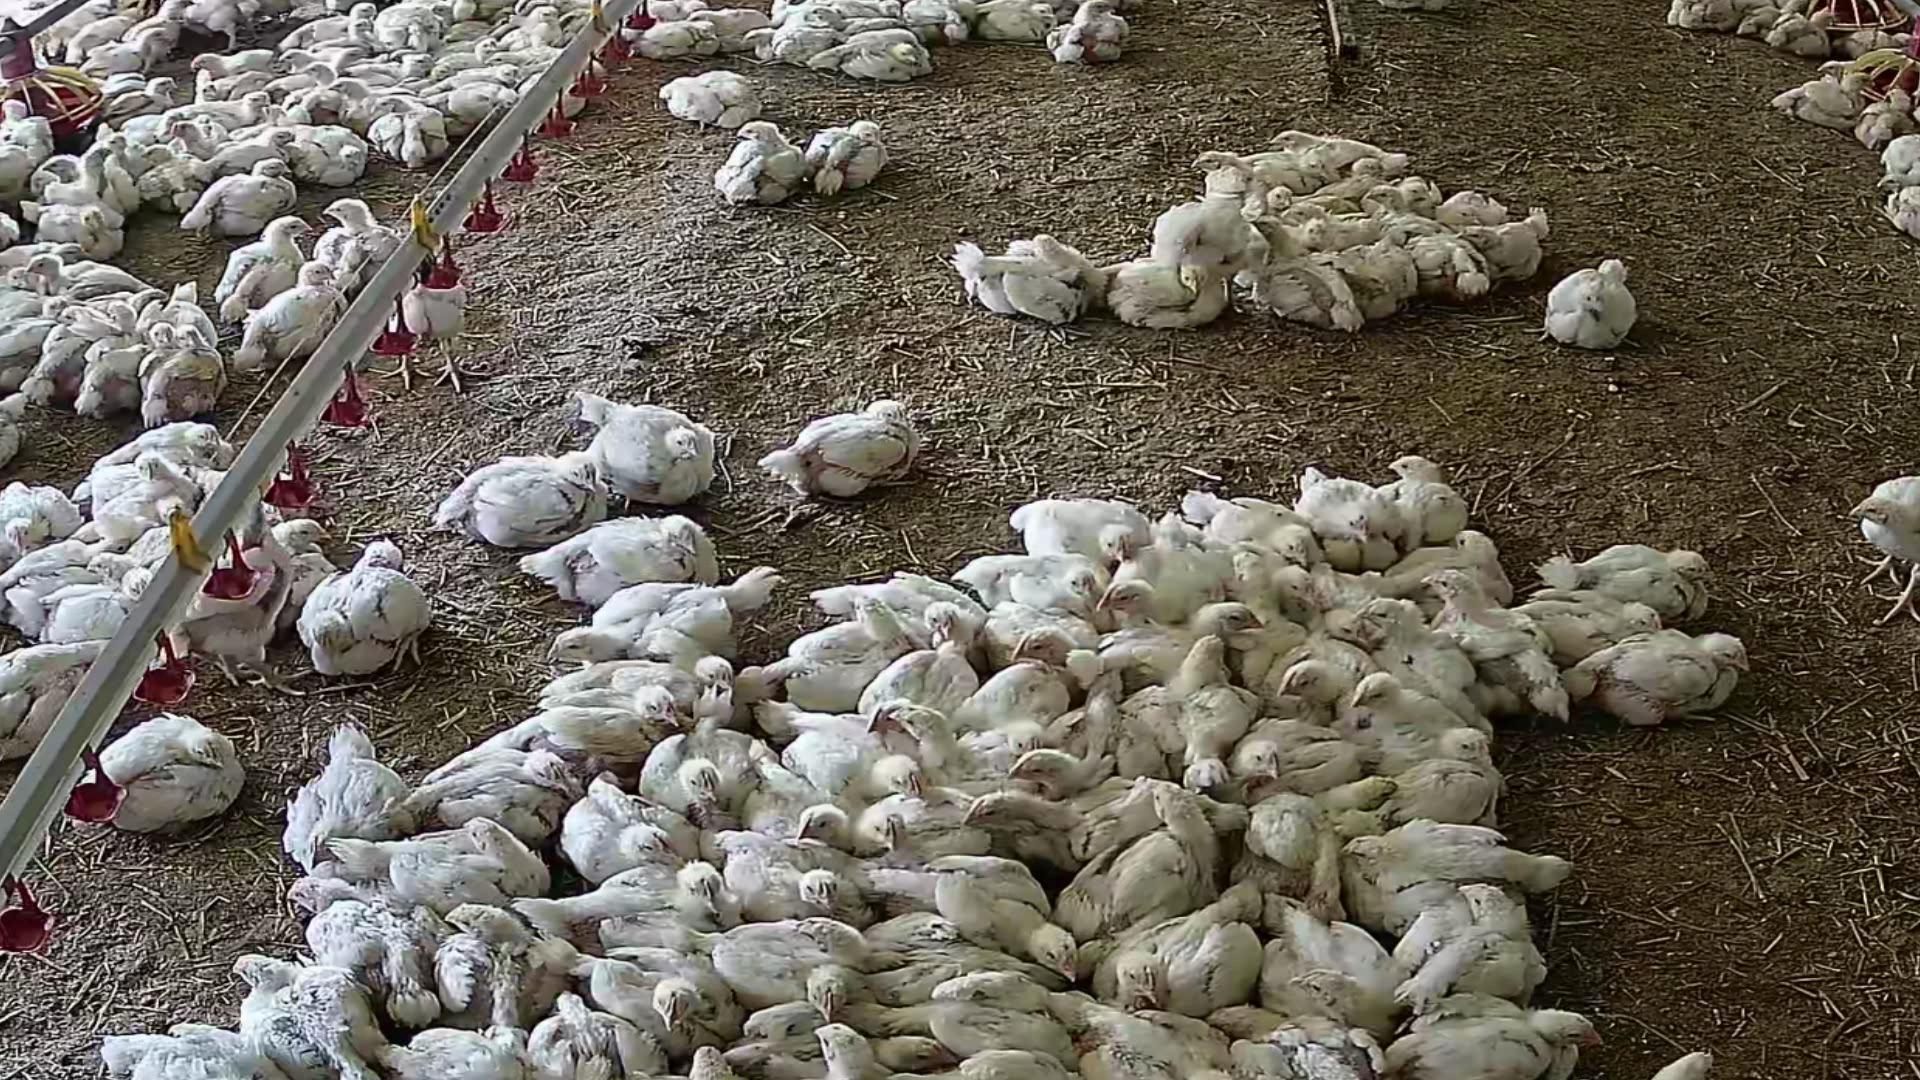poussin: (69, 694, 252, 847), (1063, 880, 1270, 1014), (894, 845, 1092, 976), (1059, 769, 1230, 919), (568, 369, 735, 512), (286, 546, 462, 679), (1571, 607, 1763, 728), (1422, 580, 1572, 731), (1387, 982, 1617, 1080), (198, 538, 322, 712), (1543, 512, 1721, 629), (442, 419, 608, 542), (546, 574, 762, 665), (766, 382, 924, 506), (306, 876, 451, 1010), (949, 222, 1100, 351), (777, 695, 932, 819), (963, 769, 1164, 864), (1341, 819, 1539, 915), (803, 769, 997, 866), (203, 942, 380, 1048), (1807, 462, 1920, 626), (1400, 878, 1549, 1001), (281, 727, 418, 856), (884, 688, 1030, 808), (529, 508, 736, 591), (1261, 905, 1406, 1019), (566, 778, 721, 885), (1246, 208, 1366, 343), (1176, 479, 1337, 579), (1534, 236, 1655, 368), (589, 935, 727, 1050), (1365, 185, 1498, 299), (458, 891, 579, 1014), (645, 709, 764, 835), (1275, 456, 1411, 566), (0, 646, 137, 754), (430, 745, 592, 835), (1085, 996, 1253, 1080), (1225, 705, 1367, 804), (919, 961, 1073, 1051), (514, 985, 659, 1080), (1101, 607, 1257, 694), (1367, 723, 1495, 828), (1204, 1010, 1395, 1080), (1354, 596, 1487, 696), (728, 825, 861, 924), (390, 807, 537, 897), (961, 547, 1118, 629), (783, 601, 911, 702), (729, 913, 865, 1005), (553, 644, 741, 709), (1505, 579, 1660, 658), (844, 636, 973, 731), (1110, 514, 1216, 629), (1100, 252, 1225, 348), (832, 563, 984, 641), (1018, 480, 1155, 566), (1356, 440, 1482, 533), (253, 269, 372, 363), (546, 684, 690, 761), (189, 149, 298, 247), (120, 997, 247, 1080), (802, 109, 914, 203), (1019, 698, 1127, 794), (712, 109, 807, 214), (1350, 666, 1473, 746), (219, 215, 330, 303), (398, 1004, 525, 1080), (135, 324, 239, 417), (657, 66, 775, 144), (1382, 518, 1514, 588), (46, 574, 169, 646), (401, 287, 477, 400), (965, 655, 1095, 720), (0, 469, 95, 553), (96, 454, 208, 522), (1193, 135, 1317, 196), (985, 600, 1098, 667), (1054, 0, 1139, 87), (1236, 545, 1335, 620), (825, 20, 944, 82), (1469, 210, 1560, 289), (1784, 70, 1879, 145), (133, 405, 244, 464), (1271, 117, 1400, 166), (51, 145, 123, 232), (367, 100, 452, 171), (135, 137, 211, 216), (313, 199, 397, 269), (963, 0, 1062, 54), (811, 1019, 898, 1080), (326, 74, 415, 129), (291, 120, 367, 186), (152, 286, 223, 352), (42, 203, 124, 260), (203, 102, 298, 150), (87, 339, 142, 422), (633, 15, 717, 69), (33, 327, 88, 409), (1776, 3, 1847, 61), (1858, 80, 1913, 154), (193, 0, 272, 51), (36, 251, 141, 289), (80, 33, 171, 76), (899, 0, 981, 47), (0, 95, 65, 153), (1284, 653, 1348, 711), (185, 41, 278, 79), (0, 137, 47, 212), (444, 83, 521, 129), (107, 70, 175, 120), (1440, 178, 1503, 232), (682, 7, 767, 46), (814, 0, 893, 42), (378, 1, 439, 55), (1820, 47, 1873, 109), (185, 95, 280, 129), (750, 22, 820, 69), (132, 0, 194, 49), (301, 61, 368, 105), (433, 0, 496, 47), (186, 65, 272, 99), (1390, 165, 1444, 219), (0, 386, 36, 465), (1851, 24, 1920, 65), (1876, 185, 1920, 248), (66, 12, 145, 46), (306, 3, 378, 38), (510, 8, 570, 50), (353, 50, 435, 80), (1671, 0, 1746, 33), (455, 65, 529, 94), (96, 537, 148, 578), (1737, 0, 1788, 38), (398, 66, 465, 91), (65, 302, 105, 339), (338, 20, 385, 51), (1891, 135, 1920, 186), (1292, 200, 1337, 233), (646, 0, 708, 22), (1253, 214, 1300, 241), (1254, 185, 1302, 208), (277, 46, 314, 71), (471, 40, 509, 58), (45, 152, 74, 175)
